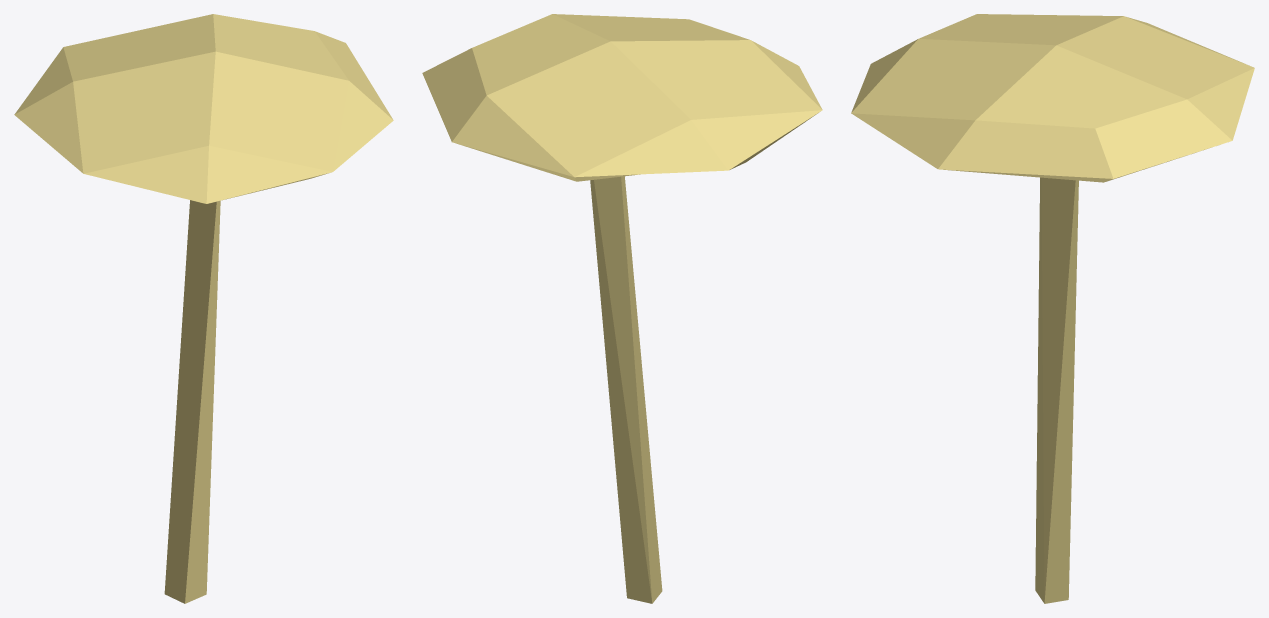
The model's file is Mushroom_h_02.fbx.
3 views of the same model, side by side, from view 1: azimuth 30°, elevation 25°; view 2: azimuth 150°, elevation 25°; view 3: azimuth 270°, elevation 25° (orthographic). The views are drawn at different scales.
Visible parts, largest first — view 1: Mushroom_h_02; view 2: Mushroom_h_02; view 3: Mushroom_h_02.
Boxes of the visible parts, x1=… form: Mushroom_h_02: x1=14, y1=14, x2=393, y2=603; Mushroom_h_02: x1=422, y1=14, x2=822, y2=603; Mushroom_h_02: x1=851, y1=14, x2=1254, y2=603.
Bounding box in the file's own units: 0.1521 × 0.2378 × 0.1538.
